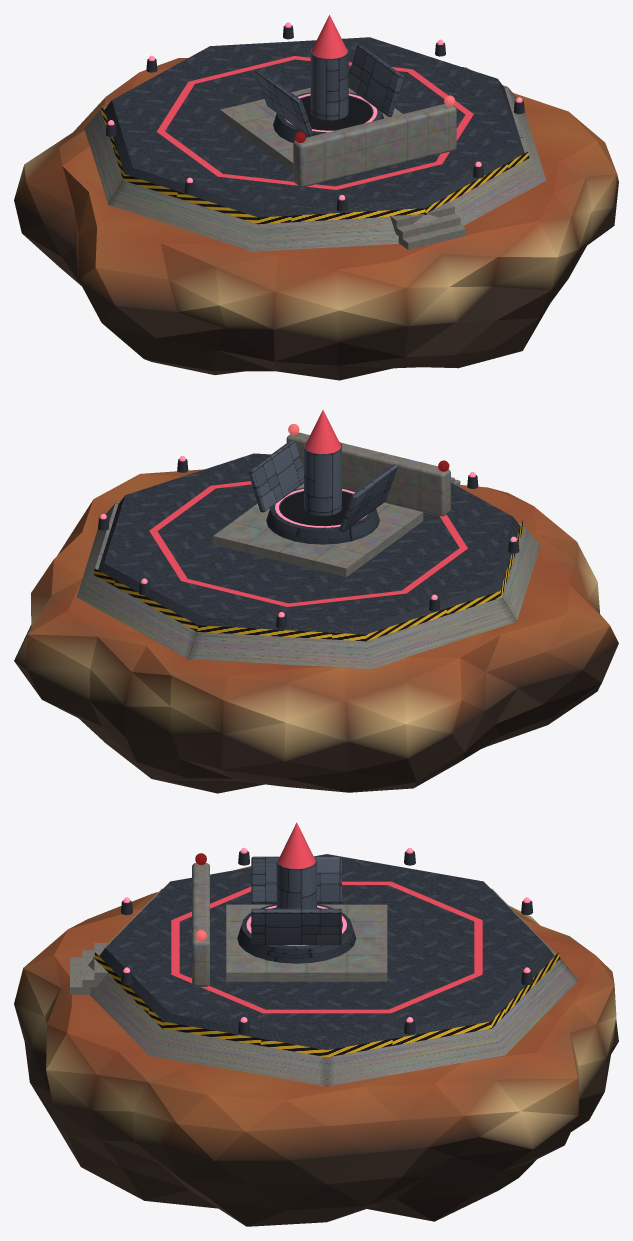
Rendered from silo-L1.glb.
3 renders of one model, top to bottom at view 1: azimuth 30°, elevation 25°; view 2: azimuth 150°, elevation 25°; view 3: azimuth 270°, elevation 25°, orthographic. The views are drawn at different scales.
Visible parts, largest first — view 1: object 1, object 4, object 2, object 32, anim:cell, object 3, object 5, object 25, anim:doorR, anim:doorL, object 27, object 22 (+3 smaller); view 2: object 1, object 4, object 2, object 25, object 32, object 3, anim:cell, object 5, anim:doorR, object 26, anim:doorL, object 27; view 3: object 1, object 4, object 2, object 25, object 3, object 5, anim:doorR, anim:cell, anim:doorL, object 26, object 32, object 22.
Boxes of the visible parts, x1,y1,x2,y2 form: object 1: (14,58,618,380); object 4: (104,37,524,217); object 2: (84,85,546,251); object 32: (293,104,456,187); anim:cell: (310,15,348,120); object 3: (101,104,529,224); object 5: (156,56,473,189); object 25: (220,87,402,171); anim:doorR: (348,44,403,116); anim:doorL: (255,69,313,136); object 27: (300,96,372,130); object 22: (398,225,466,249); object 1: (14,469,618,793); object 4: (98,453,520,634); object 2: (76,501,540,669); object 25: (213,483,423,577); object 32: (286,432,450,516); object 3: (93,520,523,641); anim:cell: (304,410,341,515); object 5: (149,481,467,606); anim:doorR: (248,440,303,512); object 26: (266,487,379,544); anim:doorL: (339,464,397,532); object 27: (280,491,351,526); object 1: (14,866,618,1226); object 4: (99,854,554,1049); object 2: (82,888,578,1086); object 25: (226,904,387,981); object 3: (93,952,560,1057); object 5: (171,881,482,1013); anim:doorR: (251,908,341,945); anim:cell: (276,822,316,908); anim:doorL: (251,856,341,903); object 26: (237,904,356,963); object 32: (192,863,209,986); object 22: (70,957,90,994).
Size of the model in its own units: 6.16 by 3.55 by 6.01.
12 materials, 5 textured.
